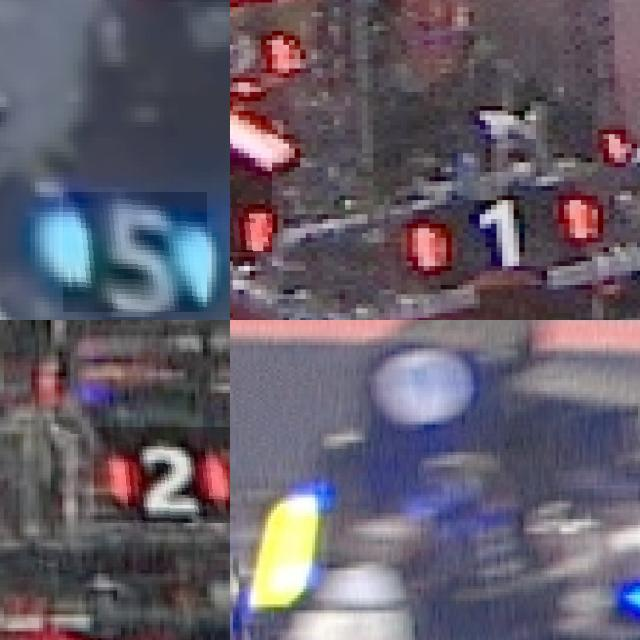B3: (603, 511, 640, 630)
B5: (63, 192, 207, 312)
R1: (412, 195, 598, 271), (230, 158, 272, 252)
R2: (93, 427, 230, 522)
